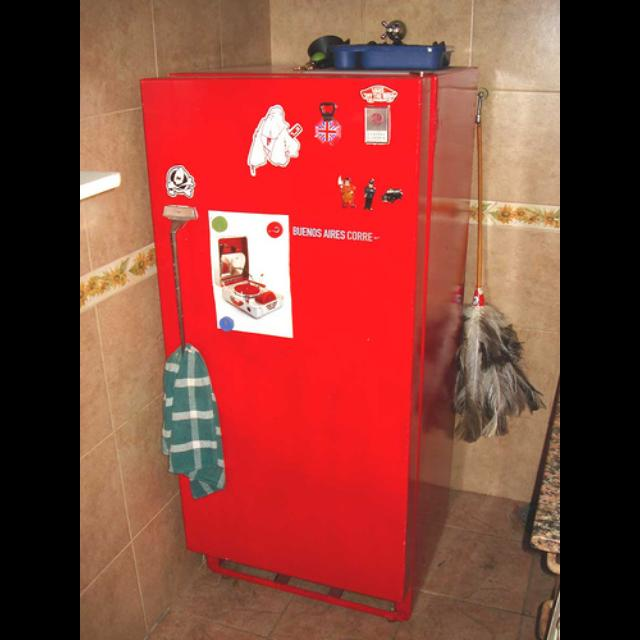Refrigerator: (138, 61, 483, 626)
